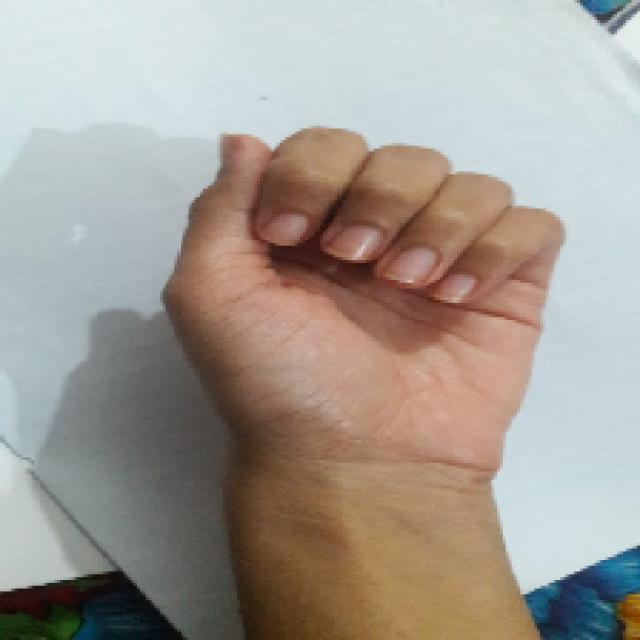Nail: (329, 225, 382, 261), (384, 249, 439, 283), (263, 214, 310, 246), (430, 273, 476, 303), (220, 133, 232, 164)
